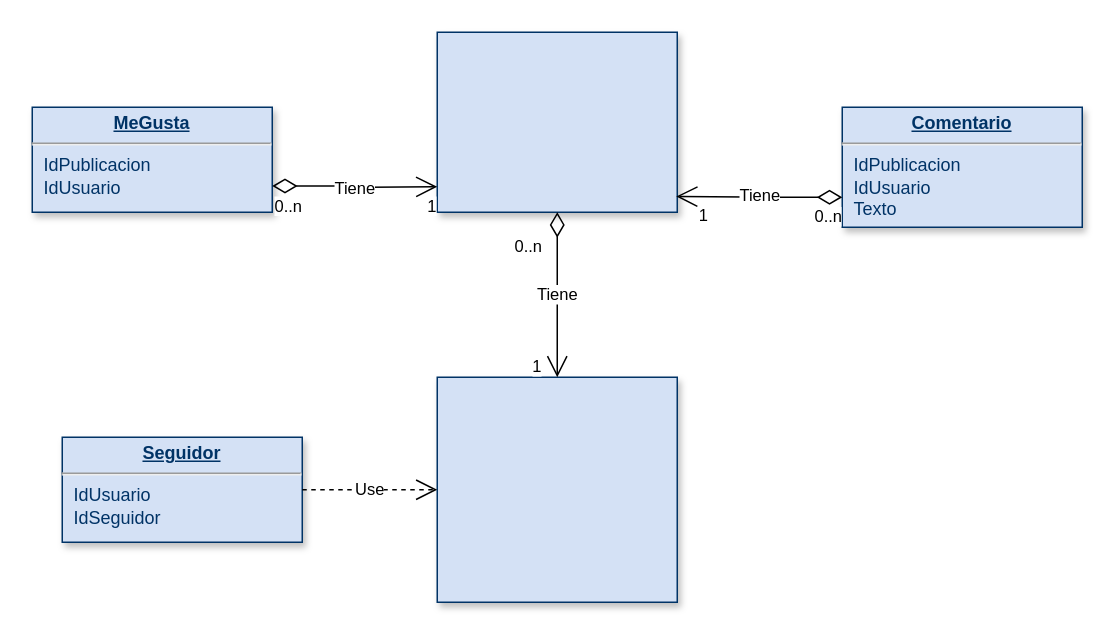
The diagram is 1118 pixels wide and 639 high, and some of its shapes have lost their labels. The centre of each missing label's shape, as x and y in pixels:
Publicacion IdPublicacion IdUsuario Descripción MediaURL MeGusta Comentarios: pixel 558 124
Usuario IdUsuario Nombre NombreUsuario Presentacion Email Tel Genero FotoURL: pixel 558 491
